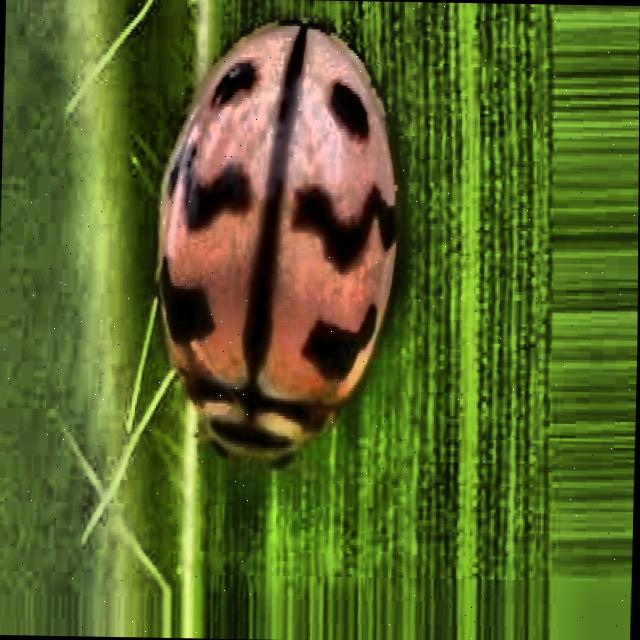Asian-Lady-beetle: (134, 2, 424, 481)
